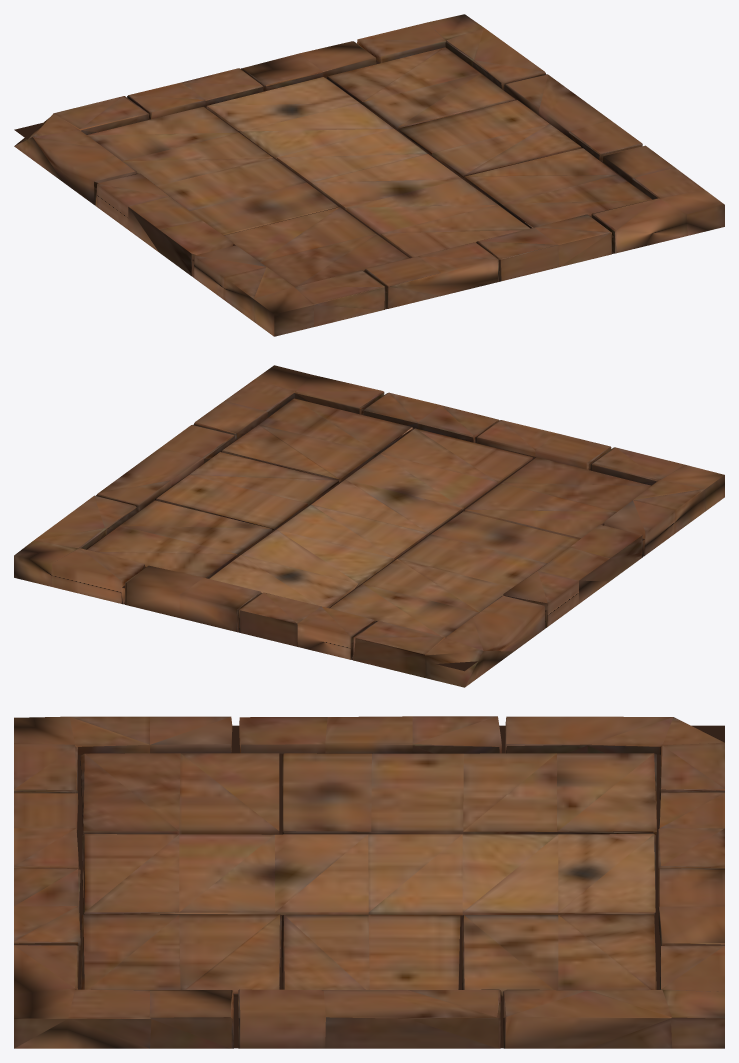
File: floor-wood.lod1.glb
3 renders of one model, top to bottom at view 1: azimuth 30°, elevation 25°; view 2: azimuth 150°, elevation 25°; view 3: azimuth 270°, elevation 25°, orthographic. The views are drawn at different scales.
Bounding box in the file's own units: 2 × 0.0997 × 2.
1 material, 1 textured.
